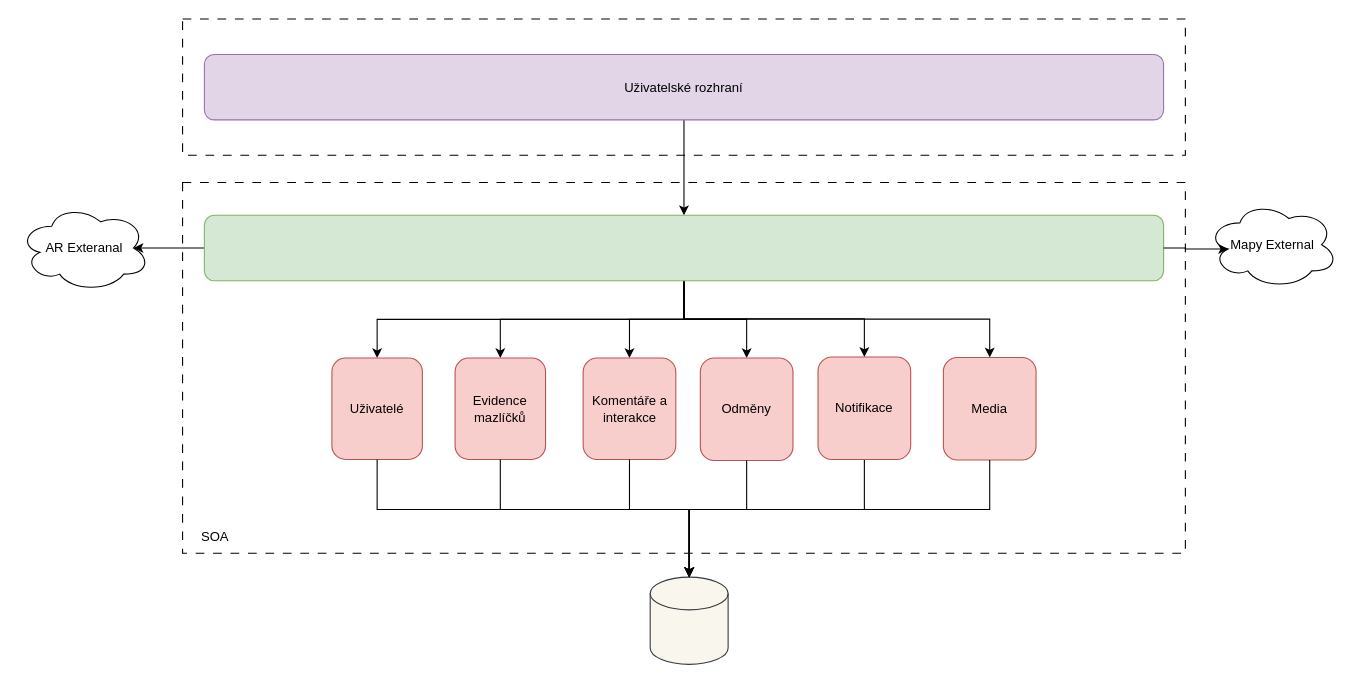
Some shapes in this 1357 by 683 pixel diagram are drawn without their labels. Here are the shapes that lost their labels. From the top down, the centre of each, then its label:
the point at 683,247: ESB
the point at 688,620: PostgreSQL
